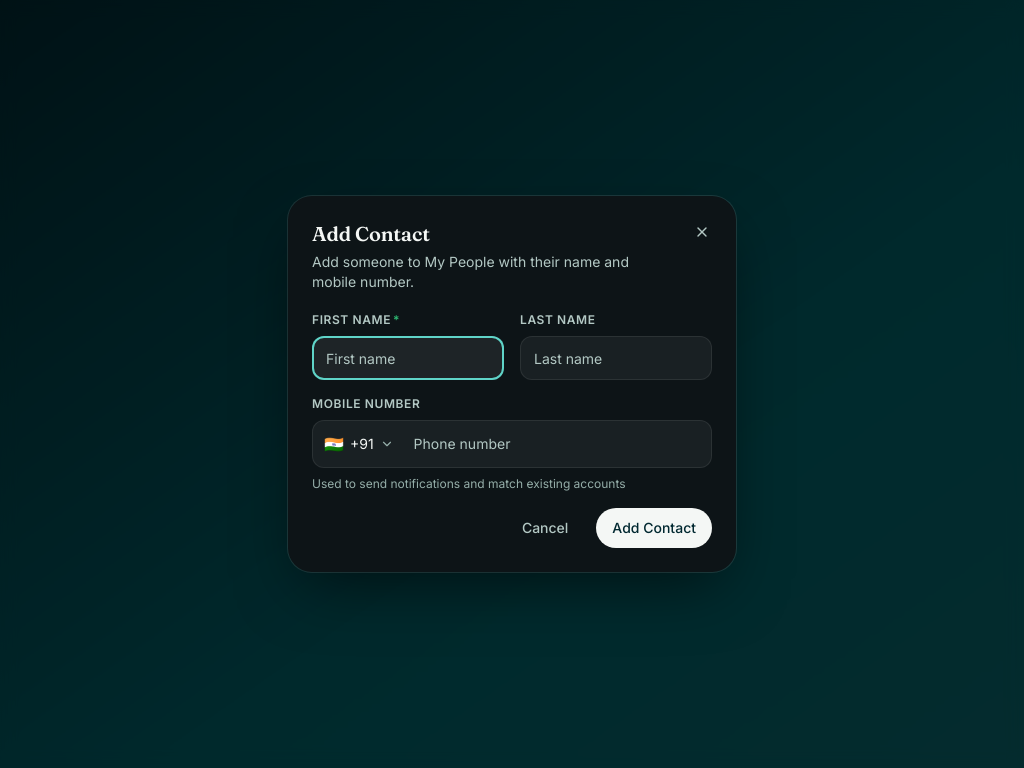
it: AddContactDialog (integration) › rejects an invalid phone number
Type "Test" into the field with placeholder "First name".
click(408, 358); type("Test")  # box x1=312 y1=336 x2=504 y2=380
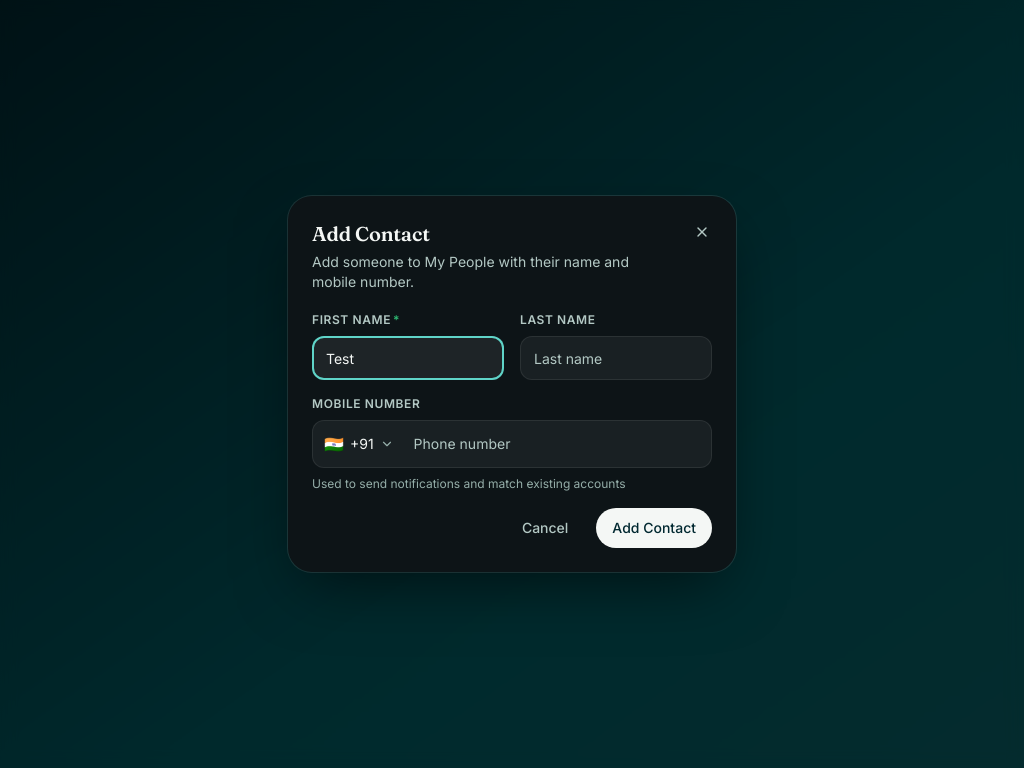
Type "123" into the field with placeholder "Phone number".
click(559, 444); type("123")  # box x1=406 y1=420 x2=712 y2=468
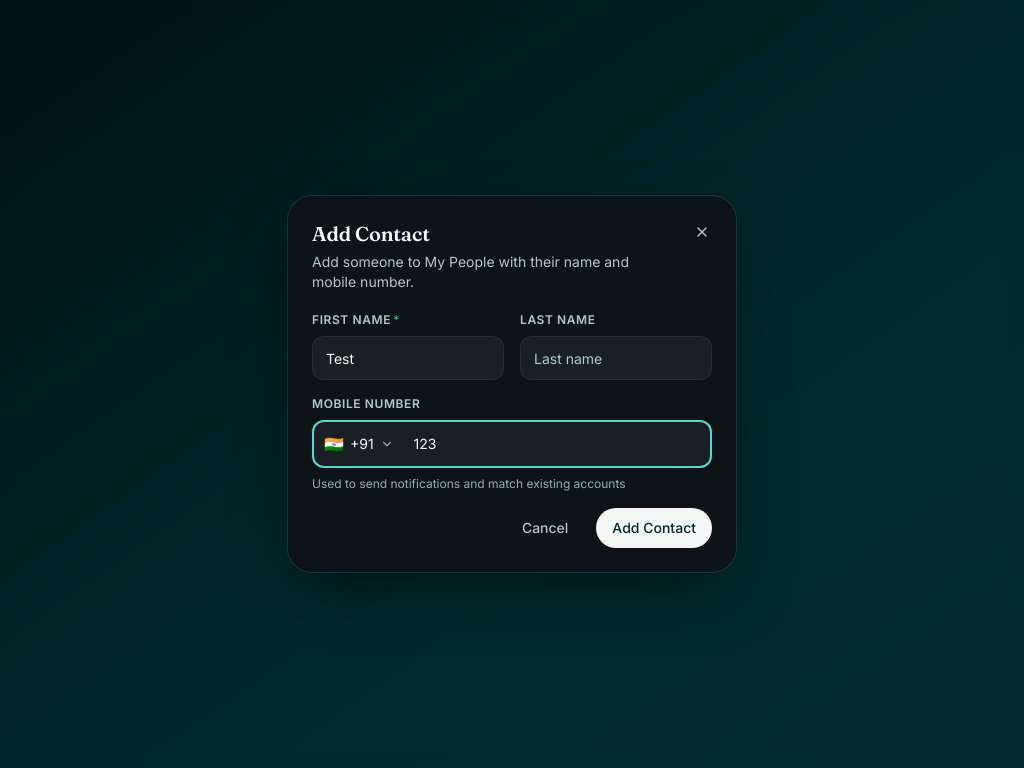
Click the button "Add Contact".
click(654, 528)  # box x1=596 y1=508 x2=712 y2=548
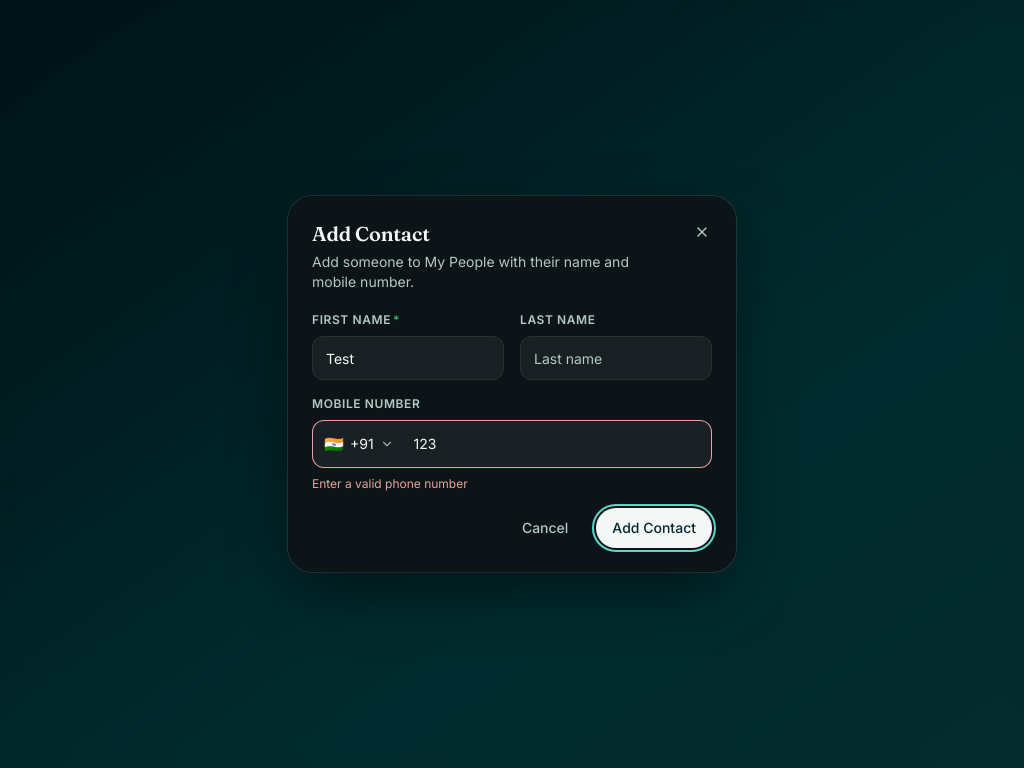
Check: the text "Enter a valid phone number" is shown, box x1=312 y1=476 x2=468 y2=491
